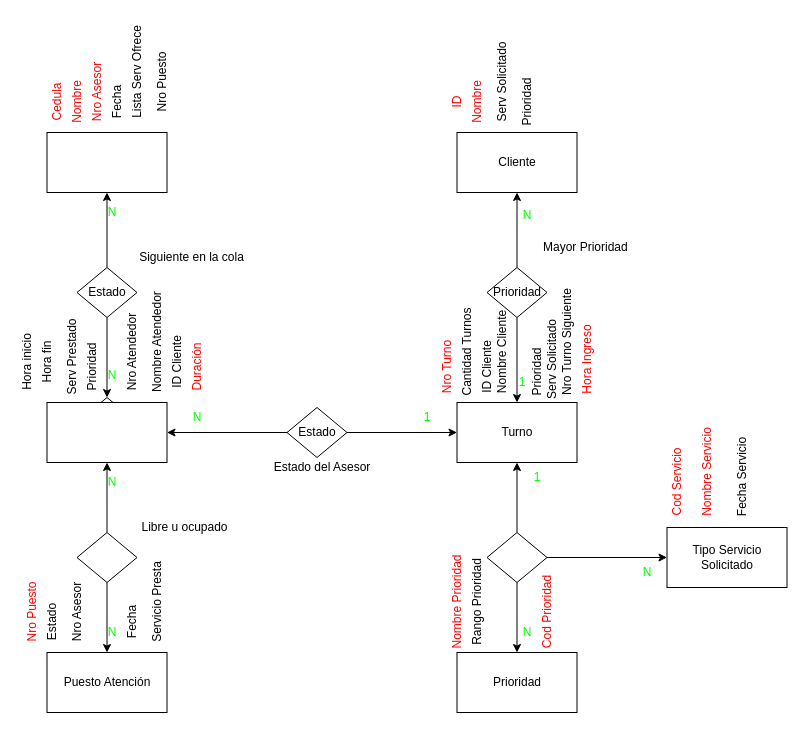
Image size: 805x730. Some labels were removed from this diagram. Each missing label, with the centre of its shape:
"Asesor" belongs at point 106,162.
"Atención Turno" belongs at point 106,432.
"Libre?" belongs at point 106,557.
"Siguiente Turno" belongs at point 516,557.
